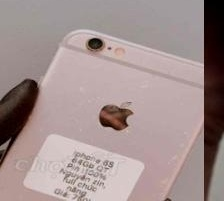scratch: (124, 108, 201, 201), (61, 70, 156, 144), (147, 47, 204, 96)
